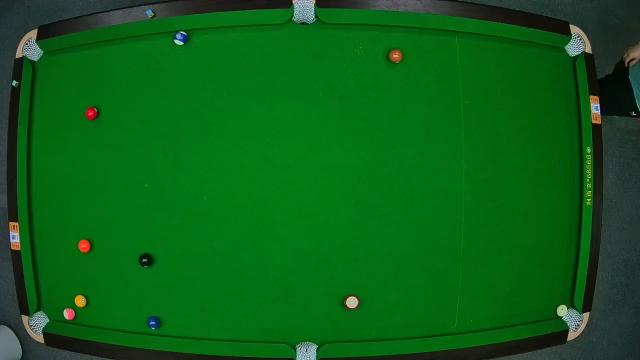bag1: (19, 36, 45, 64)
bag2: (292, 1, 318, 23)
bag3: (564, 30, 590, 58)
bag4: (24, 310, 48, 336)
bag5: (292, 340, 320, 360)
bag6: (560, 305, 588, 337)
ball0: (556, 304, 568, 318)
ball1: (74, 294, 88, 308)
ball10: (174, 31, 190, 47)
ball11: (343, 294, 359, 310)
ball12: (64, 307, 76, 321)
ball2: (146, 314, 162, 332)
ball3: (84, 107, 100, 121)
ball5: (78, 238, 90, 254)
ball7: (388, 48, 404, 66)
ball8: (138, 252, 154, 268)
